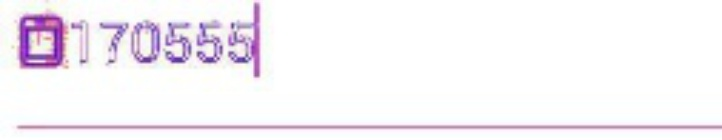EditText: (1, 1, 721, 139)
